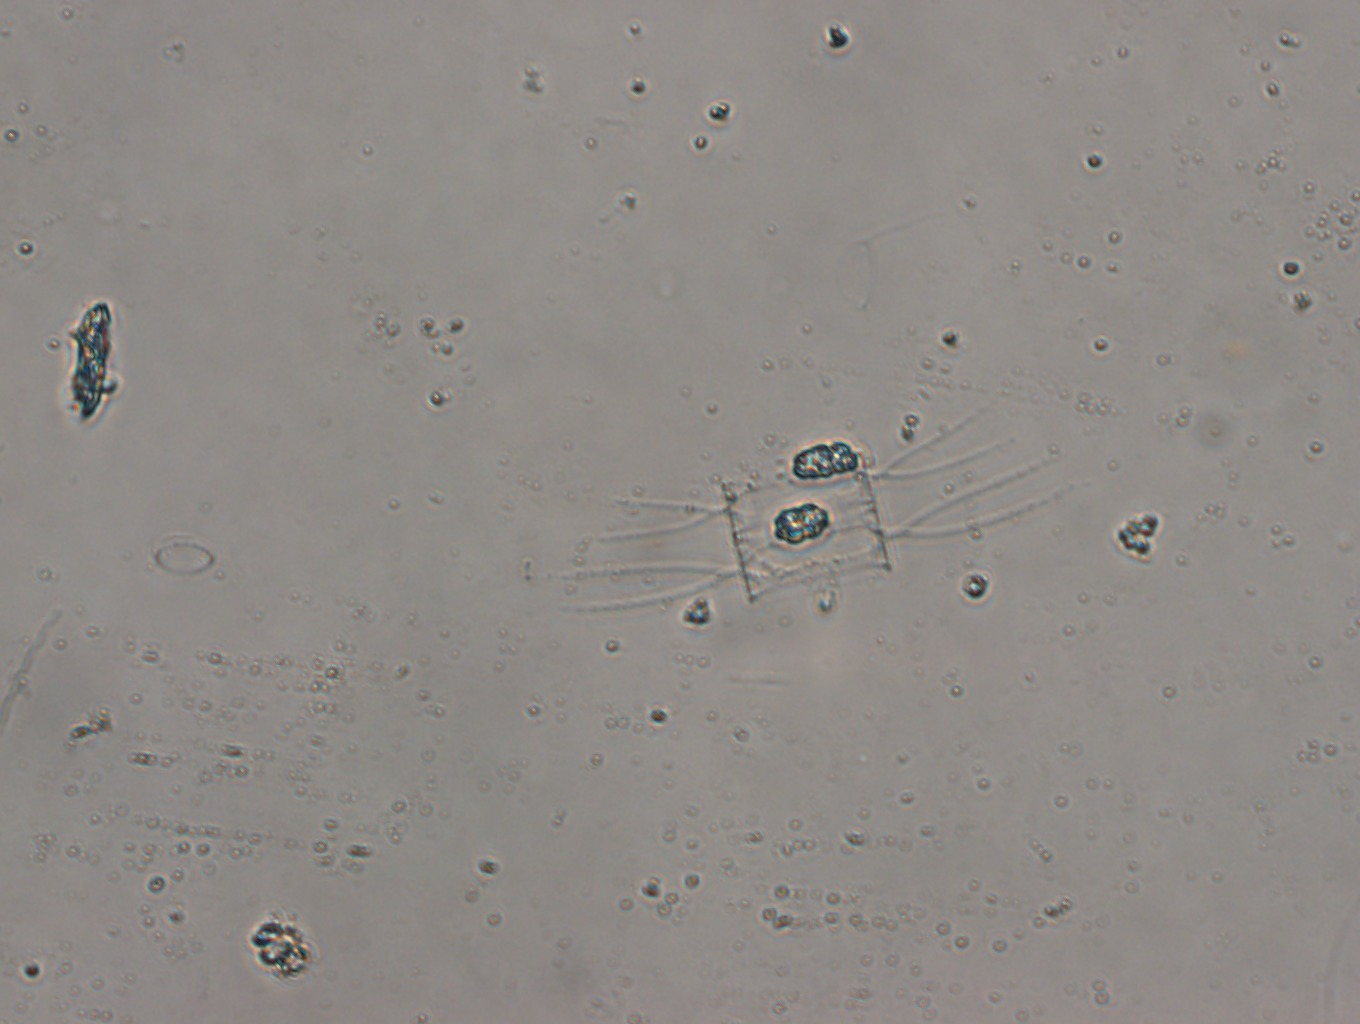chaetoceros: (566, 388, 1066, 610)
